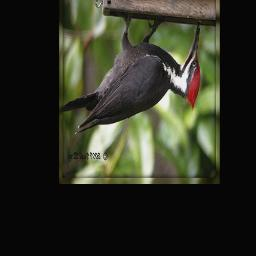Woodpecker: (60, 15, 201, 135)
